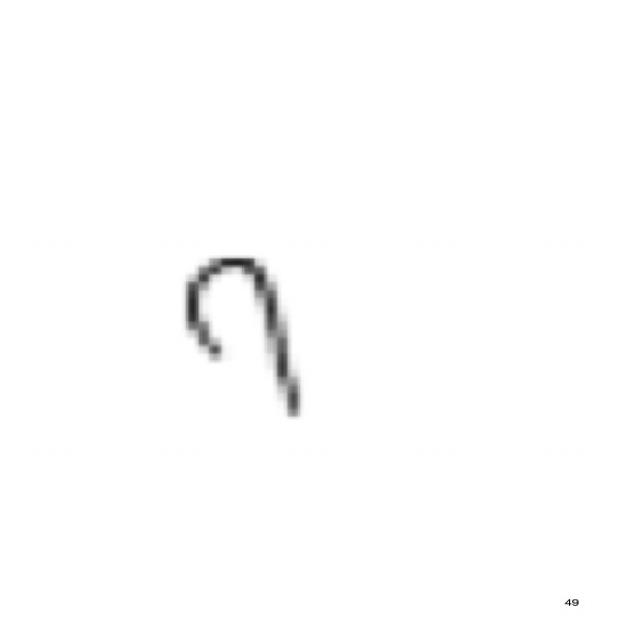8 -eight-: (162, 240, 318, 436)
